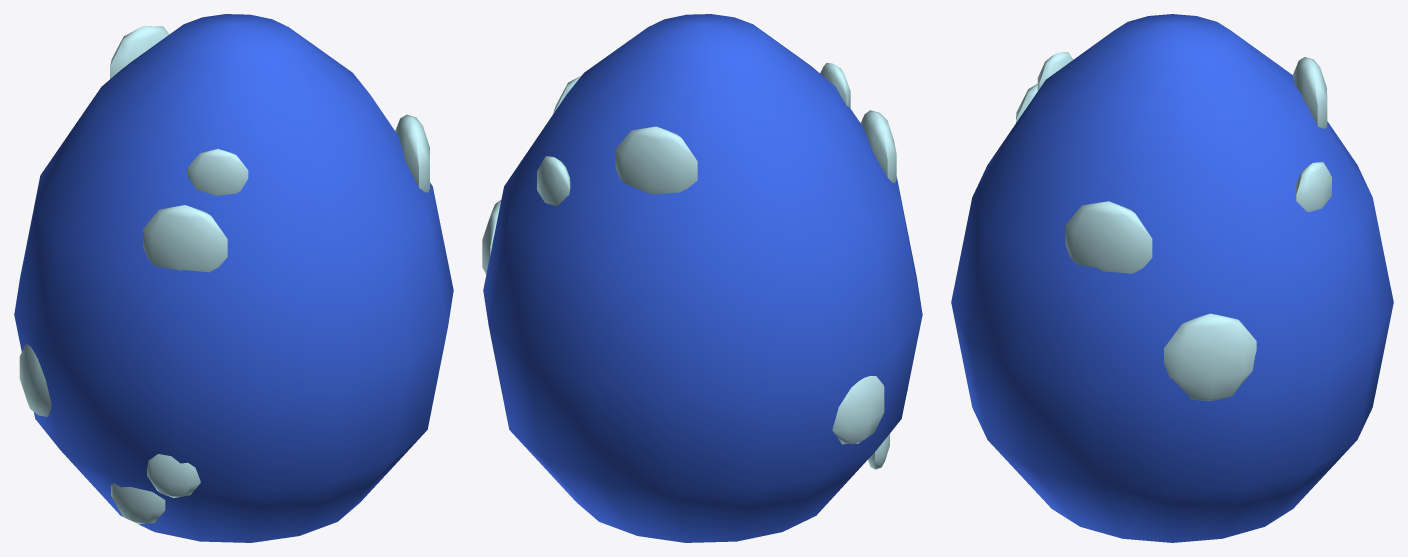
File: RareEgg.fbx
3 renders of one model, left to right at view 1: azimuth 30°, elevation 25°; view 2: azimuth 150°, elevation 25°; view 3: azimuth 270°, elevation 25°, orthographic.
Parts seen in each view (by area): view 1: RareEgg; view 2: RareEgg; view 3: RareEgg.
Boxes of the visible parts, x1,y1,x2,y2 form: RareEgg: (14, 14, 453, 542); RareEgg: (482, 14, 922, 542); RareEgg: (951, 14, 1393, 542).
Bounding box in the file's own units: 2.11 × 2.5 × 2.1.
Materials: 1 (1 with a texture image).
